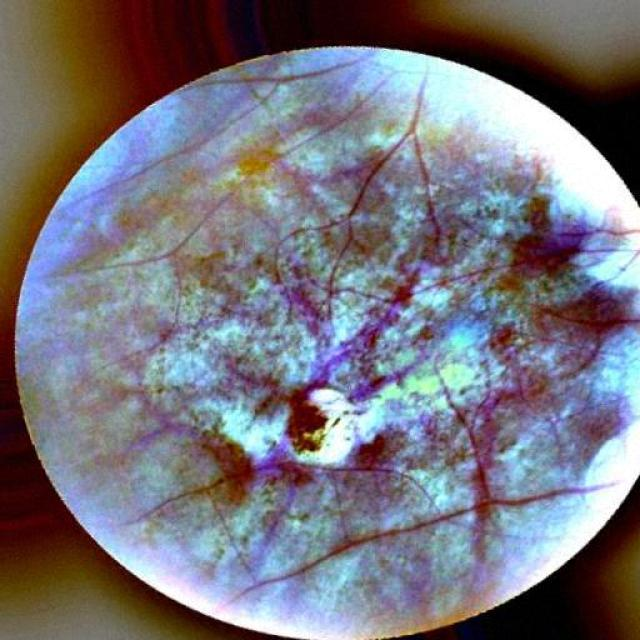Nerves: (37, 70, 385, 277), (222, 475, 621, 600), (322, 68, 428, 318), (98, 459, 445, 532), (187, 54, 379, 91), (412, 131, 444, 240)
